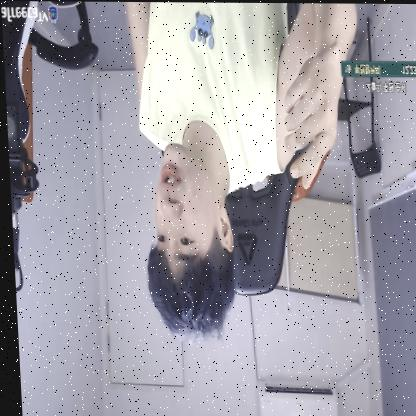streamer: (124, 1, 370, 347)
